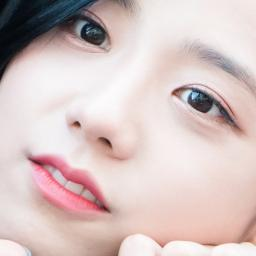face: (0, 0, 256, 240)
